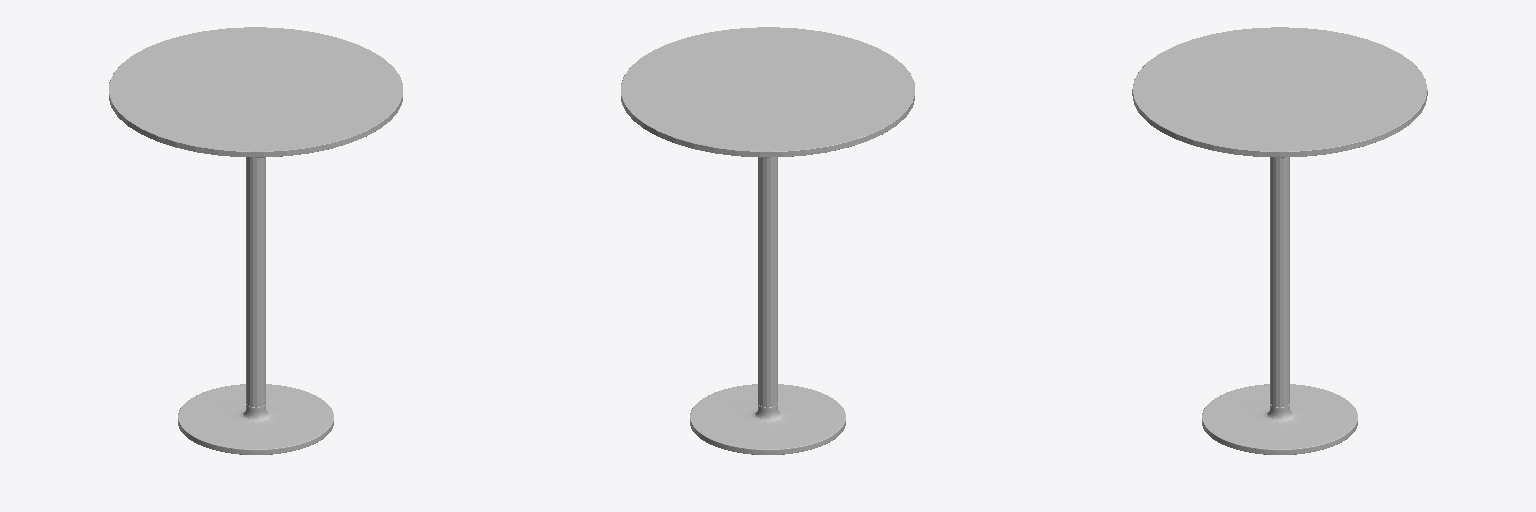
File: F_table_0021.obj
The picture shows the model from 3 angles: view 1: azimuth 30°, elevation 25°; view 2: azimuth 150°, elevation 25°; view 3: azimuth 270°, elevation 25°; orthographic projection.
Parts seen in each view (by area): view 1: Cylinder02, Cylinder03, Line01; view 2: Cylinder02, Cylinder03, Line01; view 3: Cylinder02, Cylinder03, Line01.
Boxes of the visible parts, <box> form: Cylinder02: <box>109,27,402,157</box>; Cylinder03: <box>178,384,333,454</box>; Line01: <box>246,157,265,407</box>; Cylinder02: <box>621,27,914,157</box>; Cylinder03: <box>690,384,845,454</box>; Line01: <box>758,157,777,407</box>; Cylinder02: <box>1132,27,1427,157</box>; Cylinder03: <box>1202,384,1357,454</box>; Line01: <box>1270,157,1289,407</box>.
Size of the model in its own units: 450 by 560 by 450.